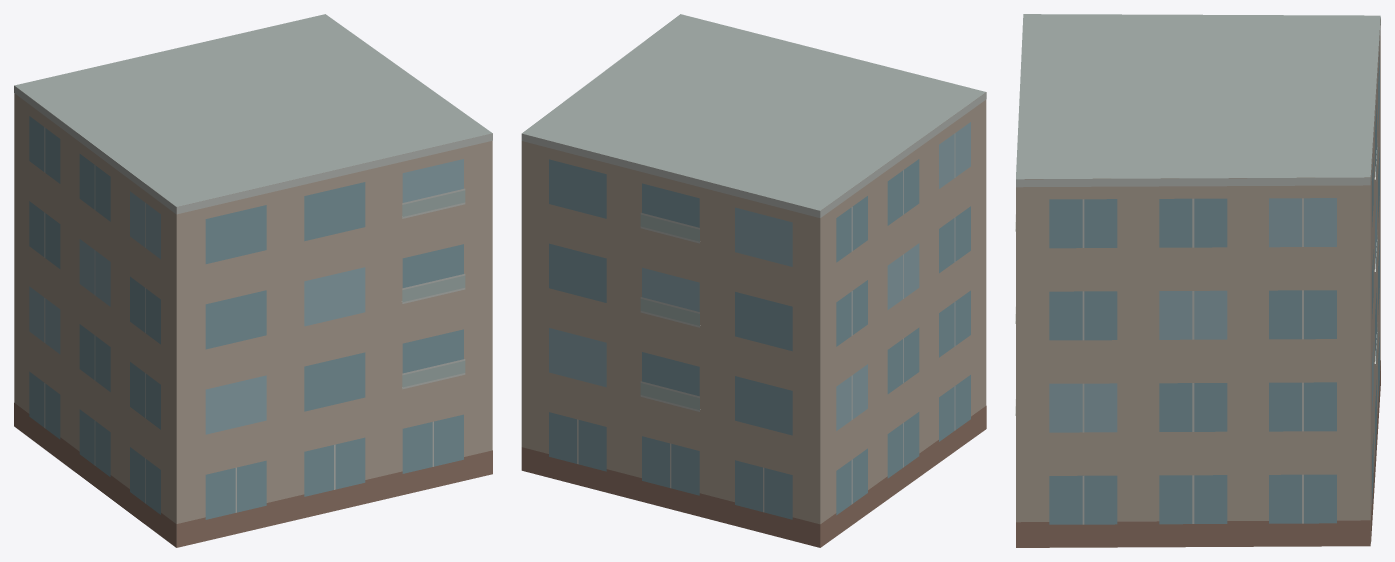
Rendered from survey-upis-32493662.glb.
3 renders of one model, left to right at view 1: azimuth 30°, elevation 25°; view 2: azimuth 150°, elevation 25°; view 3: azimuth 270°, elevation 25°, orthographic. The views are drawn at different scales.
Visible parts, largest first — view 1: survey-upis-32493662.tmp; view 2: survey-upis-32493662.tmp; view 3: survey-upis-32493662.tmp.
Boxes of the visible parts, x1=… form: survey-upis-32493662.tmp: x1=14, y1=14, x2=492, y2=547; survey-upis-32493662.tmp: x1=521, y1=14, x2=986, y2=547; survey-upis-32493662.tmp: x1=1015, y1=14, x2=1380, y2=547.
Bounding box in the file's own units: 10.77 × 11.2 × 10.07.
